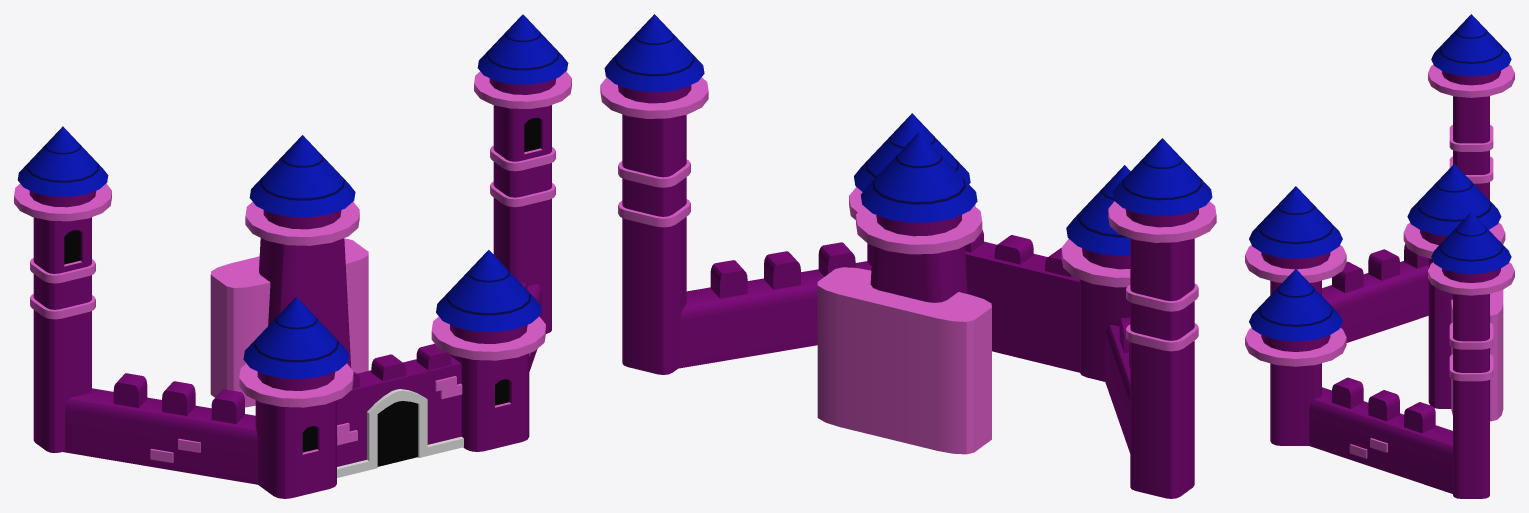
Rendered from env_castle.fbx.
3 renders of one model, left to right at view 1: azimuth 30°, elevation 25°; view 2: azimuth 150°, elevation 25°; view 3: azimuth 270°, elevation 25°, orthographic. The views are drawn at different scales.
Parts seen in each view (by area): view 1: castle; view 2: castle; view 3: castle.
Part boxes in pixels (x1,y1,x2,y2): castle: [14, 14, 571, 498]; castle: [600, 14, 1216, 498]; castle: [1245, 14, 1514, 498].
Size of the model in its own units: 6.8 by 3.77 by 3.31.
